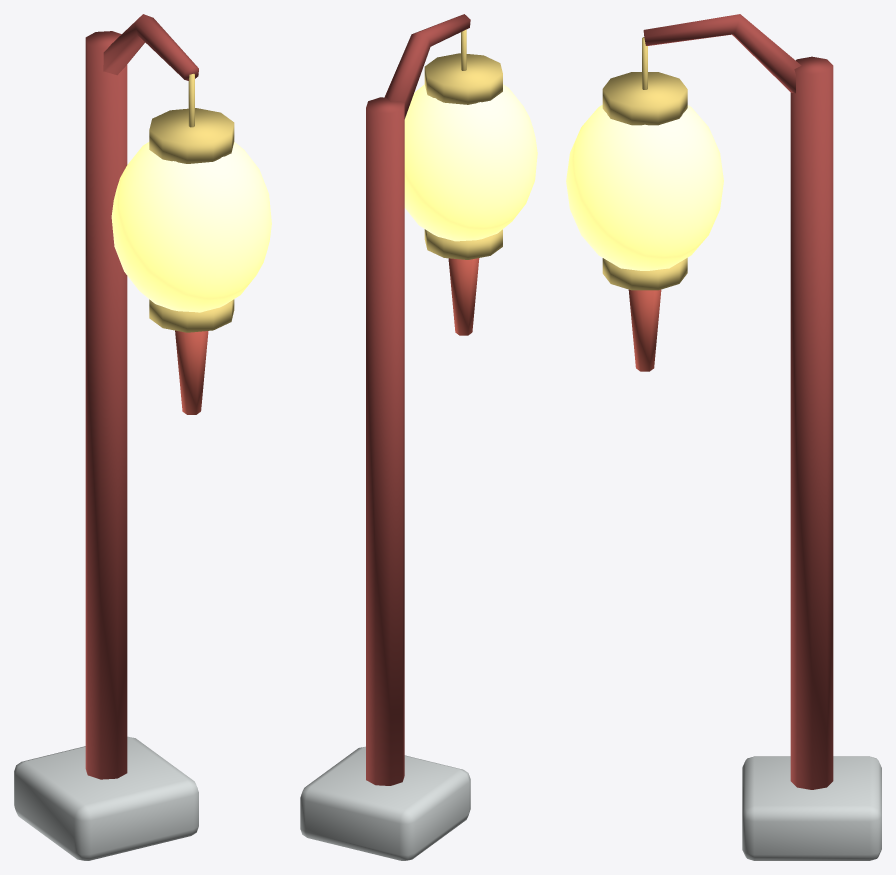
File: palace_lantern.glb
The picture shows the model from 3 angles, left to right: view 1: azimuth 30°, elevation 25°; view 2: azimuth 150°, elevation 25°; view 3: azimuth 270°, elevation 25°; orthographic projection. The views are drawn at different scales.
Visible parts, largest first — view 1: Post, Lantern, Base, CapTop, Arm, Tassel, CapBot; view 2: Post, Lantern, Base, CapTop, Arm, Tassel, CapBot; view 3: Post, Lantern, Base, CapTop, Arm, Tassel, CapBot.
Part boxes in pixels (<box>): Post: <box>85,31,127,779</box>; Lantern: <box>111,142,271,312</box>; Base: <box>14,736,198,860</box>; CapTop: <box>149,108,234,163</box>; Arm: <box>103,14,198,80</box>; Tassel: <box>175,330,208,414</box>; CapBot: <box>149,299,234,332</box>; Post: <box>366,97,404,785</box>; Lantern: <box>404,84,537,241</box>; Base: <box>300,746,470,860</box>; CapTop: <box>424,53,502,104</box>; Arm: <box>384,14,470,118</box>; Tassel: <box>448,258,479,335</box>; CapBot: <box>424,229,502,259</box>; Post: <box>790,56,833,789</box>; Lantern: <box>566,105,723,270</box>; Base: <box>742,756,881,860</box>; CapTop: <box>602,72,687,125</box>; Arm: <box>643,14,801,93</box>; Tassel: <box>628,289,661,371</box>; CapBot: <box>602,258,687,290</box>.
Size of the model in its own units: 0.52 by 2.99 by 1.04.
